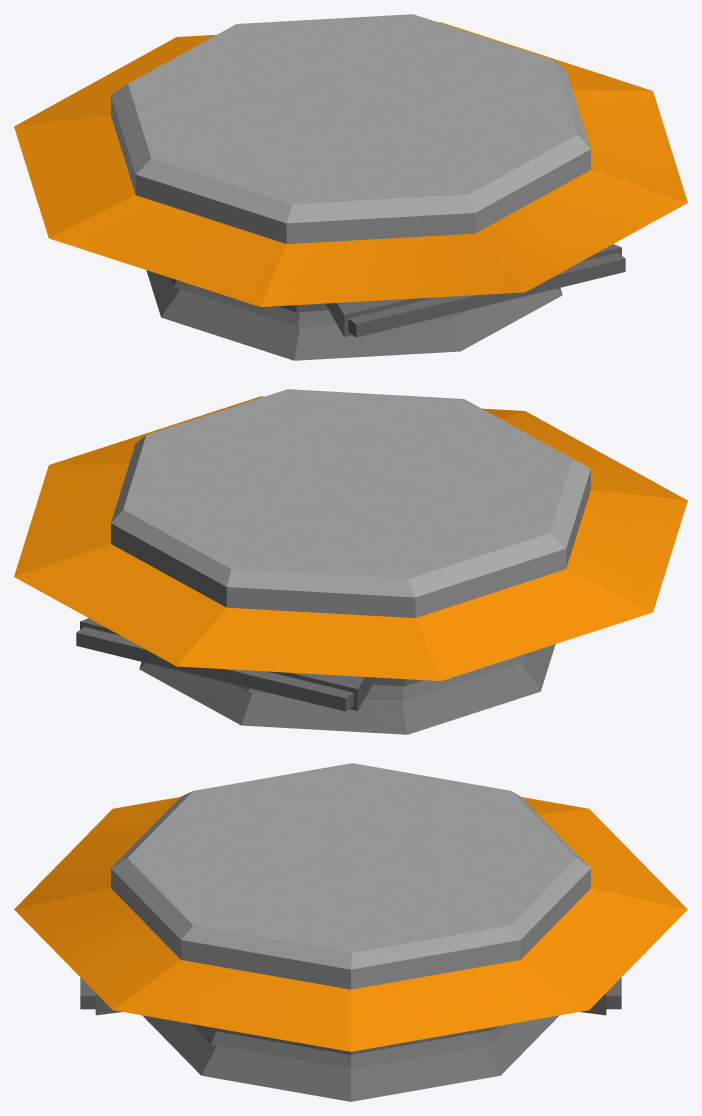
Rendered from Portal Mesh.fbx.
The picture shows the model from 3 angles, top to bottom: view 1: azimuth 30°, elevation 25°; view 2: azimuth 150°, elevation 25°; view 3: azimuth 270°, elevation 25°; orthographic projection. The views are drawn at different scales.
Parts seen in each view (by area): view 1: Portal machine; view 2: Portal machine; view 3: Portal machine.
Part boxes in pixels (x1=…): Portal machine: x1=14, y1=14, x2=687, y2=360; Portal machine: x1=14, y1=389, x2=687, y2=734; Portal machine: x1=14, y1=763, x2=687, y2=1101.
Size of the model in its own units: 281 by 71.47 by 281.
